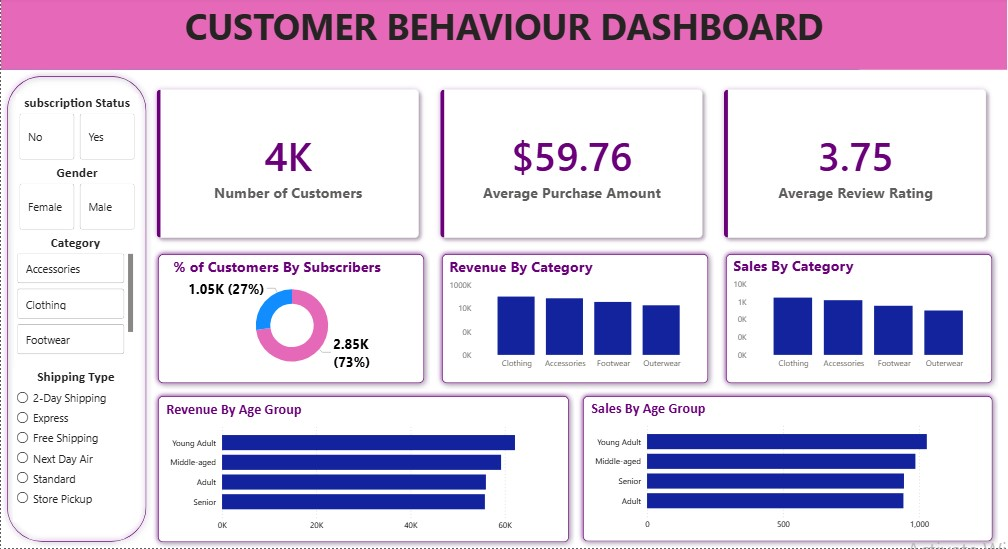

This screenshot's page, from the dashboard's own definition file:
{"tool":"powerbi","page":{"name":"Dashboard","canvas":[1500,820],"ordinal":0},"visuals":[{"type":"cardVisual","fields":{"Data":["customer_behaviour_analysis customer_shopping.Number of Customers","customer_behaviour_analysis customer_shopping.Average Customer Amount","customer_behaviour_analysis customer_shopping.Average Review Rating"]},"box":[202.3,107,1297.7,279.3],"z":0},{"type":"shape","box":[0,0,1280,107],"z":1000},{"type":"textbox","box":[0,0,1500,107],"z":2000},{"type":"shape","box":[225.8,372.9,414.7,210.7],"z":3000},{"type":"donutChart","title":"% of Customers By Subscribers","fields":{"Category":["customer_behaviour_analysis customer_shopping.subscription_status"],"Y":["CountNonNull(customer_behaviour_analysis customer_shopping.customer_id)"]},"box":[252,386.1,363.8,175.9],"z":4000},{"type":"shape","box":[648.8,372.9,414.7,210.7],"z":5000},{"type":"shape","box":[1071.9,372.9,414.7,210.7],"z":6000},{"type":"clusteredColumnChart","title":"Revenue By Category","fields":{"Category":["customer_behaviour_analysis customer_shopping.category"],"Y":["Sum(customer_behaviour_analysis customer_shopping.purchase_amount)"]},"box":[663.5,386.1,384.7,175.9],"z":7000},{"type":"clusteredColumnChart","title":"Sales By Category","fields":{"Category":["customer_behaviour_analysis customer_shopping.category"],"Y":["CountNonNull(customer_behaviour_analysis customer_shopping.customer_id)"]},"box":[1086.9,384.7,384.7,177.4],"z":8000},{"type":"shape","box":[0,107,225.8,712.4],"z":9000},{"type":"advancedSlicerVisual","title":"subscription Status","fields":{"Values":["customer_behaviour_analysis customer_shopping.subscription_status"]},"box":[21.7,143.8,182.3,103.7],"z":10000},{"type":"advancedSlicerVisual","title":"Gender","fields":{"Values":["customer_behaviour_analysis customer_shopping.gender"]},"box":[21.7,247.5,182.3,103.7],"z":11000},{"type":"advancedSlicerVisual","title":"Category","fields":{"Values":["customer_behaviour_analysis customer_shopping.category"]},"box":[19.4,351.9,183.4,187.9],"z":12000},{"type":"listSlicer","title":"Shipping Type","fields":{"Values":["customer_behaviour_analysis customer_shopping.shipping_type"]},"box":[17.9,551.6,187.9,229.6],"z":13000},{"type":"shape","box":[225.8,583.8,630.4,235.8],"z":14000},{"type":"clusteredBarChart","title":"Revenue By Age Group","fields":{"Y":["Sum(customer_behaviour_analysis customer_shopping.purchase_amount)"],"Category":["customer_behaviour_analysis customer_shopping.age_group"]},"box":[240.9,601.3,595,203.2],"z":15000},{"type":"shape","box":[858.9,584.3,628.5,234.6],"z":16000},{"type":"clusteredBarChart","title":"Sales By Age Group","fields":{"Y":["CountNonNull(customer_behaviour_analysis customer_shopping.customer_id)"],"Category":["customer_behaviour_analysis customer_shopping.age_group"]},"box":[875.7,599.2,595,203.2],"z":17000}]}

Visuals, with their boxes in screenshot pixels (x1, y1, x2, y2), scaled from the page's 1500x820 canvas onto the 1008x549 screenshot:
cardVisual - customer_behaviour_analysis customer_shopping.Number of Customers x customer_behaviour_analysis customer_shopping.Average Customer Amount: l=136, t=72, r=1007, b=259
shape: l=0, t=0, r=860, b=72
textbox: l=0, t=0, r=1007, b=72
shape: l=152, t=250, r=430, b=391
"% of Customers By Subscribers" donutChart: l=169, t=258, r=414, b=376
shape: l=436, t=250, r=715, b=391
shape: l=720, t=250, r=999, b=391
"Revenue By Category" clusteredColumnChart: l=446, t=258, r=704, b=376
"Sales By Category" clusteredColumnChart: l=730, t=258, r=989, b=376
shape: l=0, t=72, r=152, b=548
"subscription Status" advancedSlicerVisual: l=15, t=96, r=137, b=166
"Gender" advancedSlicerVisual: l=15, t=166, r=137, b=235
"Category" advancedSlicerVisual: l=13, t=236, r=136, b=361
"Shipping Type" listSlicer: l=12, t=369, r=138, b=523
shape: l=152, t=391, r=575, b=548
"Revenue By Age Group" clusteredBarChart: l=162, t=403, r=562, b=539
shape: l=577, t=391, r=1000, b=548
"Sales By Age Group" clusteredBarChart: l=588, t=401, r=988, b=537
